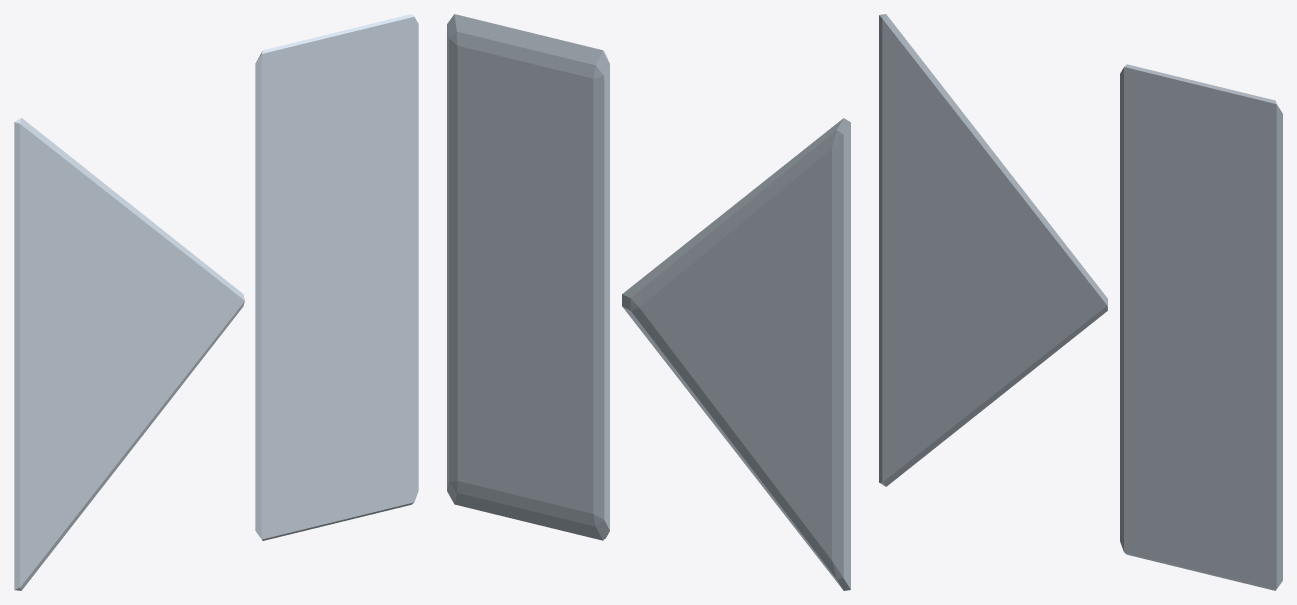
File: Skip_3D_Icon_02.fbx
The picture shows the model from 3 angles, left to right: view 1: azimuth 30°, elevation 25°; view 2: azimuth 150°, elevation 25°; view 3: azimuth 330°, elevation 25°; orthographic projection.
Visible parts, largest first — view 1: Skip_3D_Icon_02; view 2: Skip_3D_Icon_02; view 3: Skip_3D_Icon_02.
Boxes of the visible parts, box(x1,y1,x2,y2) form: Skip_3D_Icon_02: box(14, 14, 418, 590); Skip_3D_Icon_02: box(447, 14, 850, 590); Skip_3D_Icon_02: box(879, 14, 1282, 590).
Size of the model in its own units: 90.62 by 105 by 1.63.
